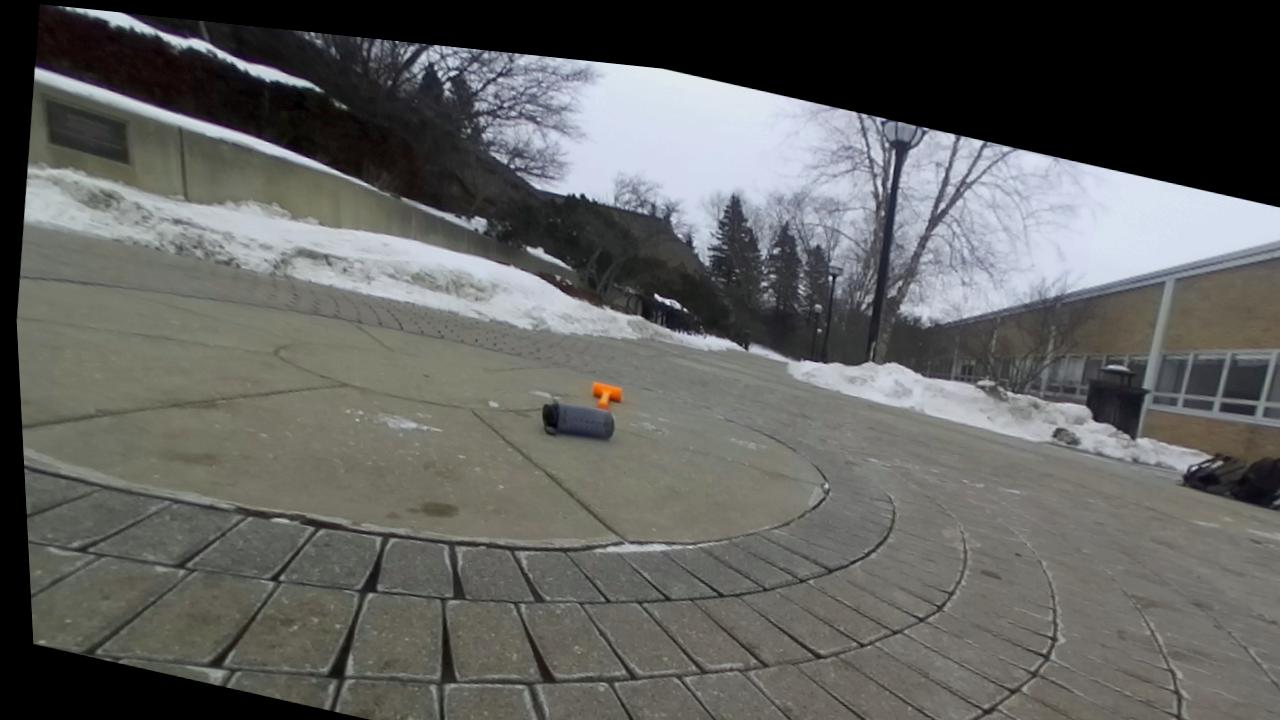bottle: (542, 402, 614, 439)
mallet: (591, 381, 621, 409)
